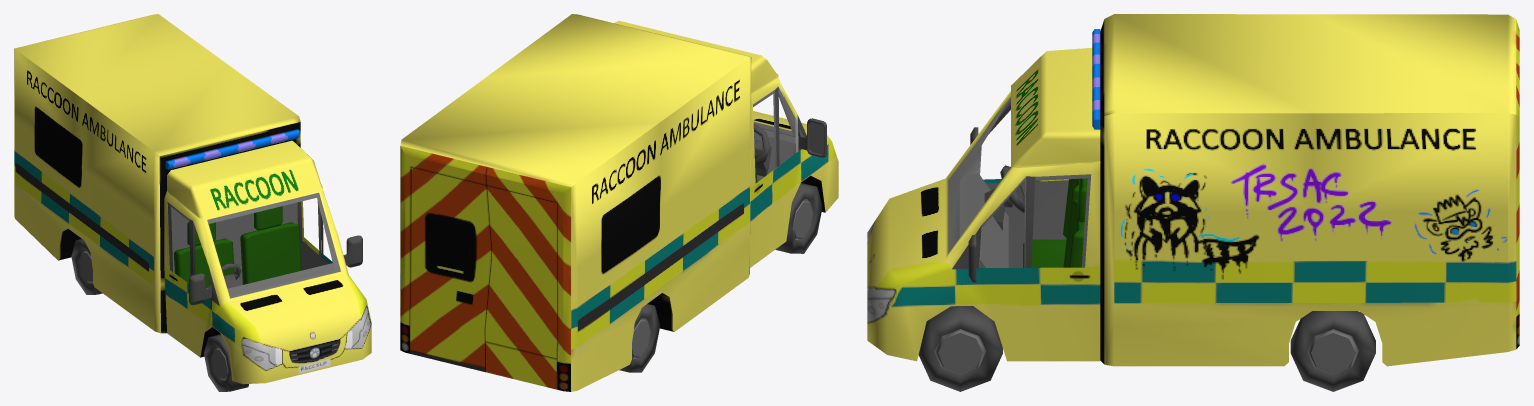
Rendered from ambulance.fbx.
The picture shows the model from 3 angles, left to right: view 1: azimuth 30°, elevation 25°; view 2: azimuth 150°, elevation 25°; view 3: azimuth 270°, elevation 25°; orthographic projection. The views are drawn at different scales.
Visible parts, largest first — view 1: ambulance; view 2: ambulance; view 3: ambulance.
Boxes of the visible parts, x1,y1,x2,y2 form: ambulance: [14, 14, 371, 391]; ambulance: [400, 14, 838, 391]; ambulance: [867, 14, 1519, 391].
Size of the model in its own units: 2.99 by 3.38 by 7.
5 materials, 1 textured.
